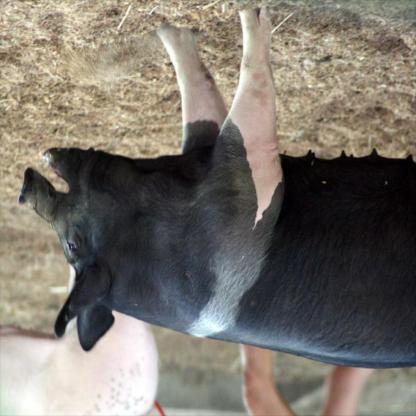boar: (17, 7, 416, 370)
